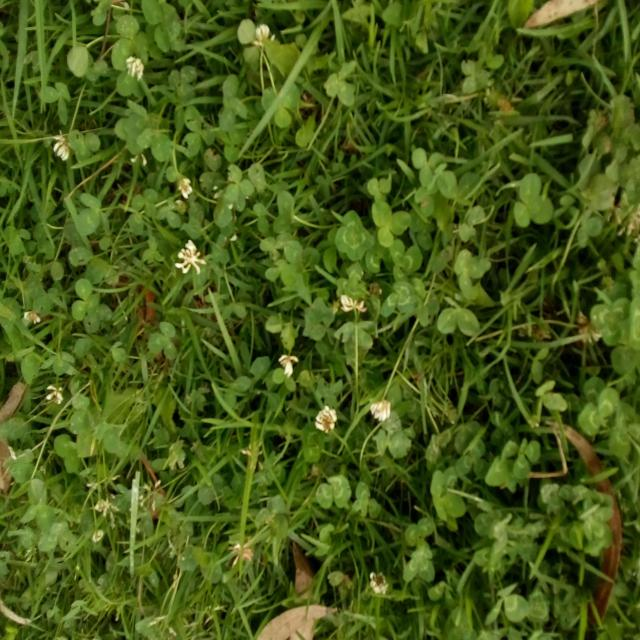Four Leaf Clover: (335, 211, 374, 261), (337, 266, 366, 299)
